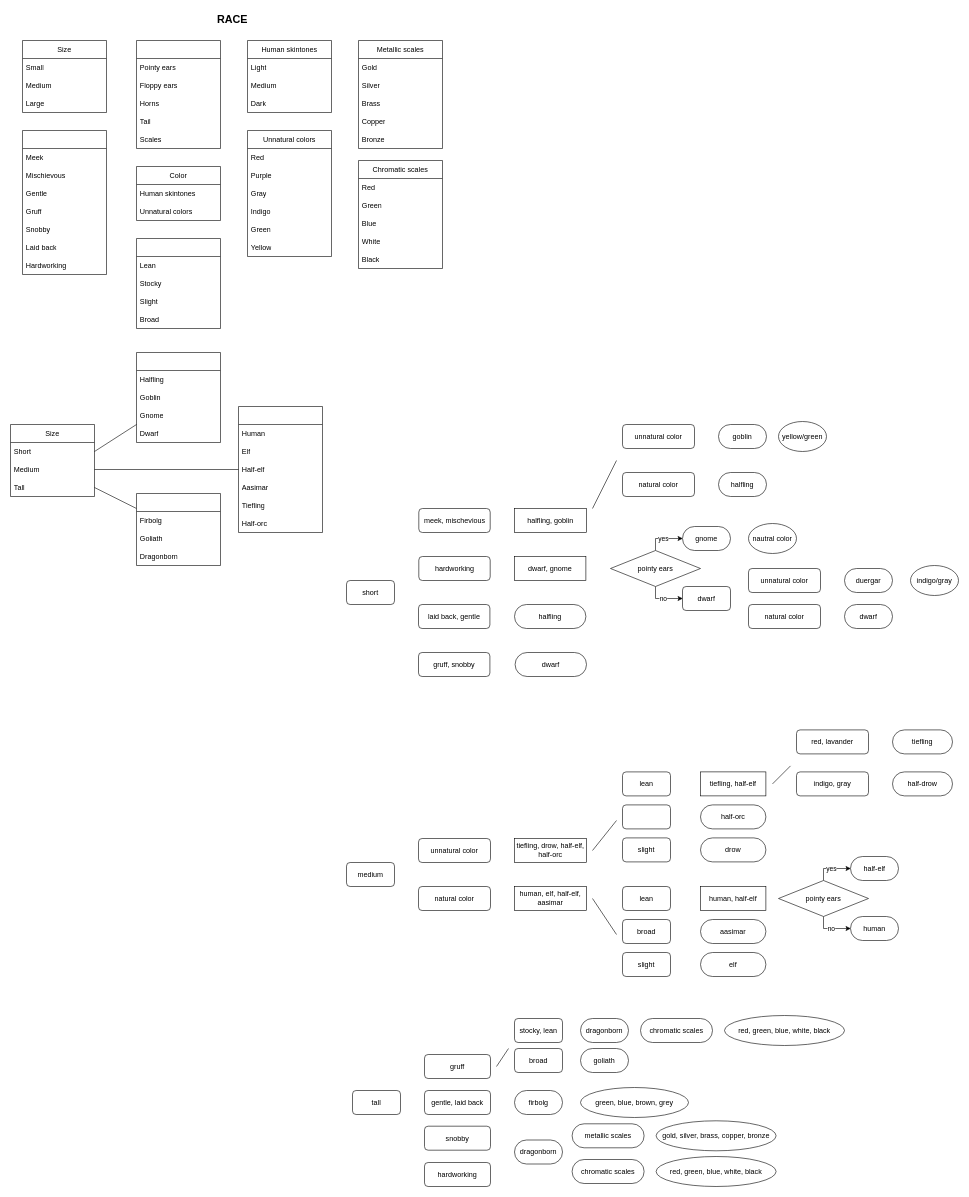
Some shapes in this 969 by 1197 pixel diagram are drawn without their labels. Each missing label, with the box of its shape:
Attitude: (22, 130, 106, 274)
Features: (136, 40, 220, 148)
Medium Races: (238, 406, 322, 532)
Physique: (136, 238, 220, 328)
Short Races: (136, 352, 220, 442)
stocky, broad: (622, 804, 670, 829)
Tall Races: (136, 493, 220, 566)
